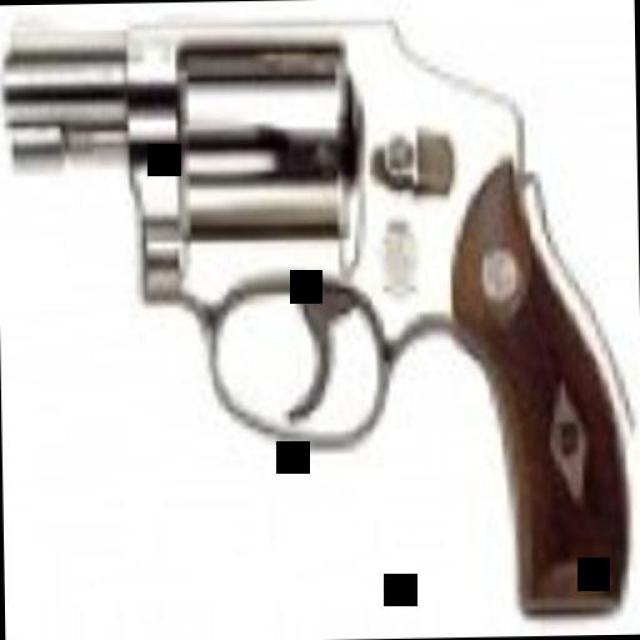gun: (3, 0, 627, 632)
